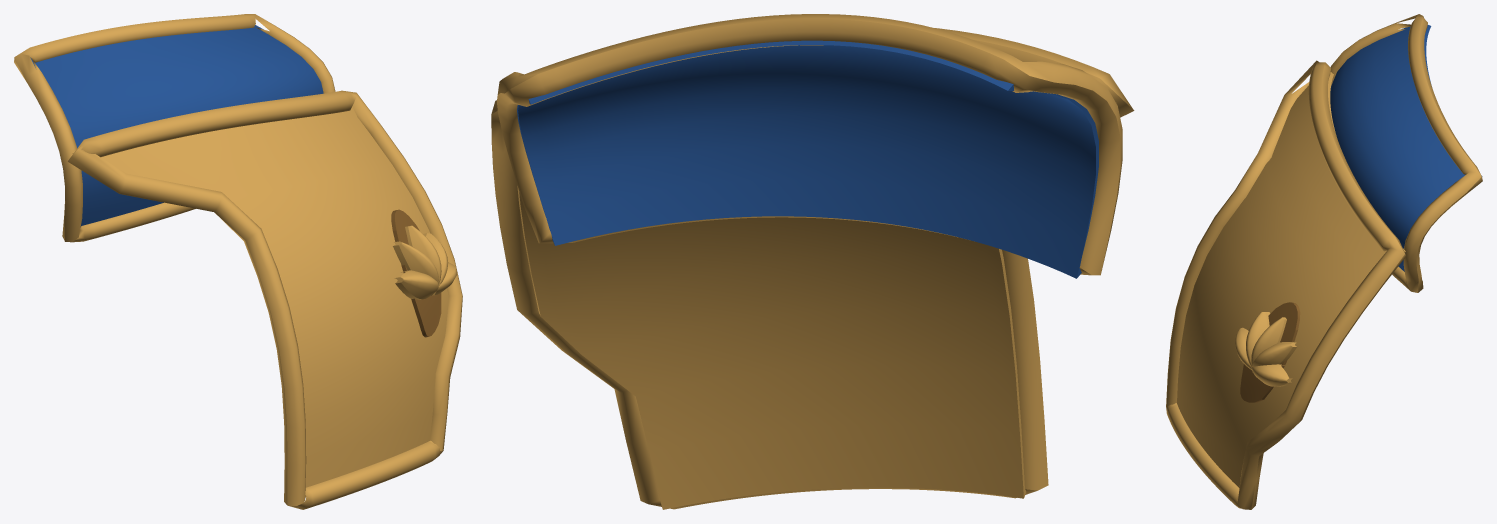
File: shoulder-armour-near.glb
3 views of the same model, side by side, from view 1: azimuth 30°, elevation 25°; view 2: azimuth 150°, elevation 25°; view 3: azimuth 270°, elevation 25° (orthographic). The views are drawn at different scales.
Visible parts, largest first — view 1: OriginalLeftShoulderArmour; view 2: OriginalLeftShoulderArmour; view 3: OriginalLeftShoulderArmour.
Boxes of the visible parts, x1,y1,x2,y2 form: OriginalLeftShoulderArmour: (14,14,462,509); OriginalLeftShoulderArmour: (491,14,1134,509); OriginalLeftShoulderArmour: (1166,14,1482,509).
Bounding box in the file's own units: 0.106 × 0.1107 × 0.0871.
